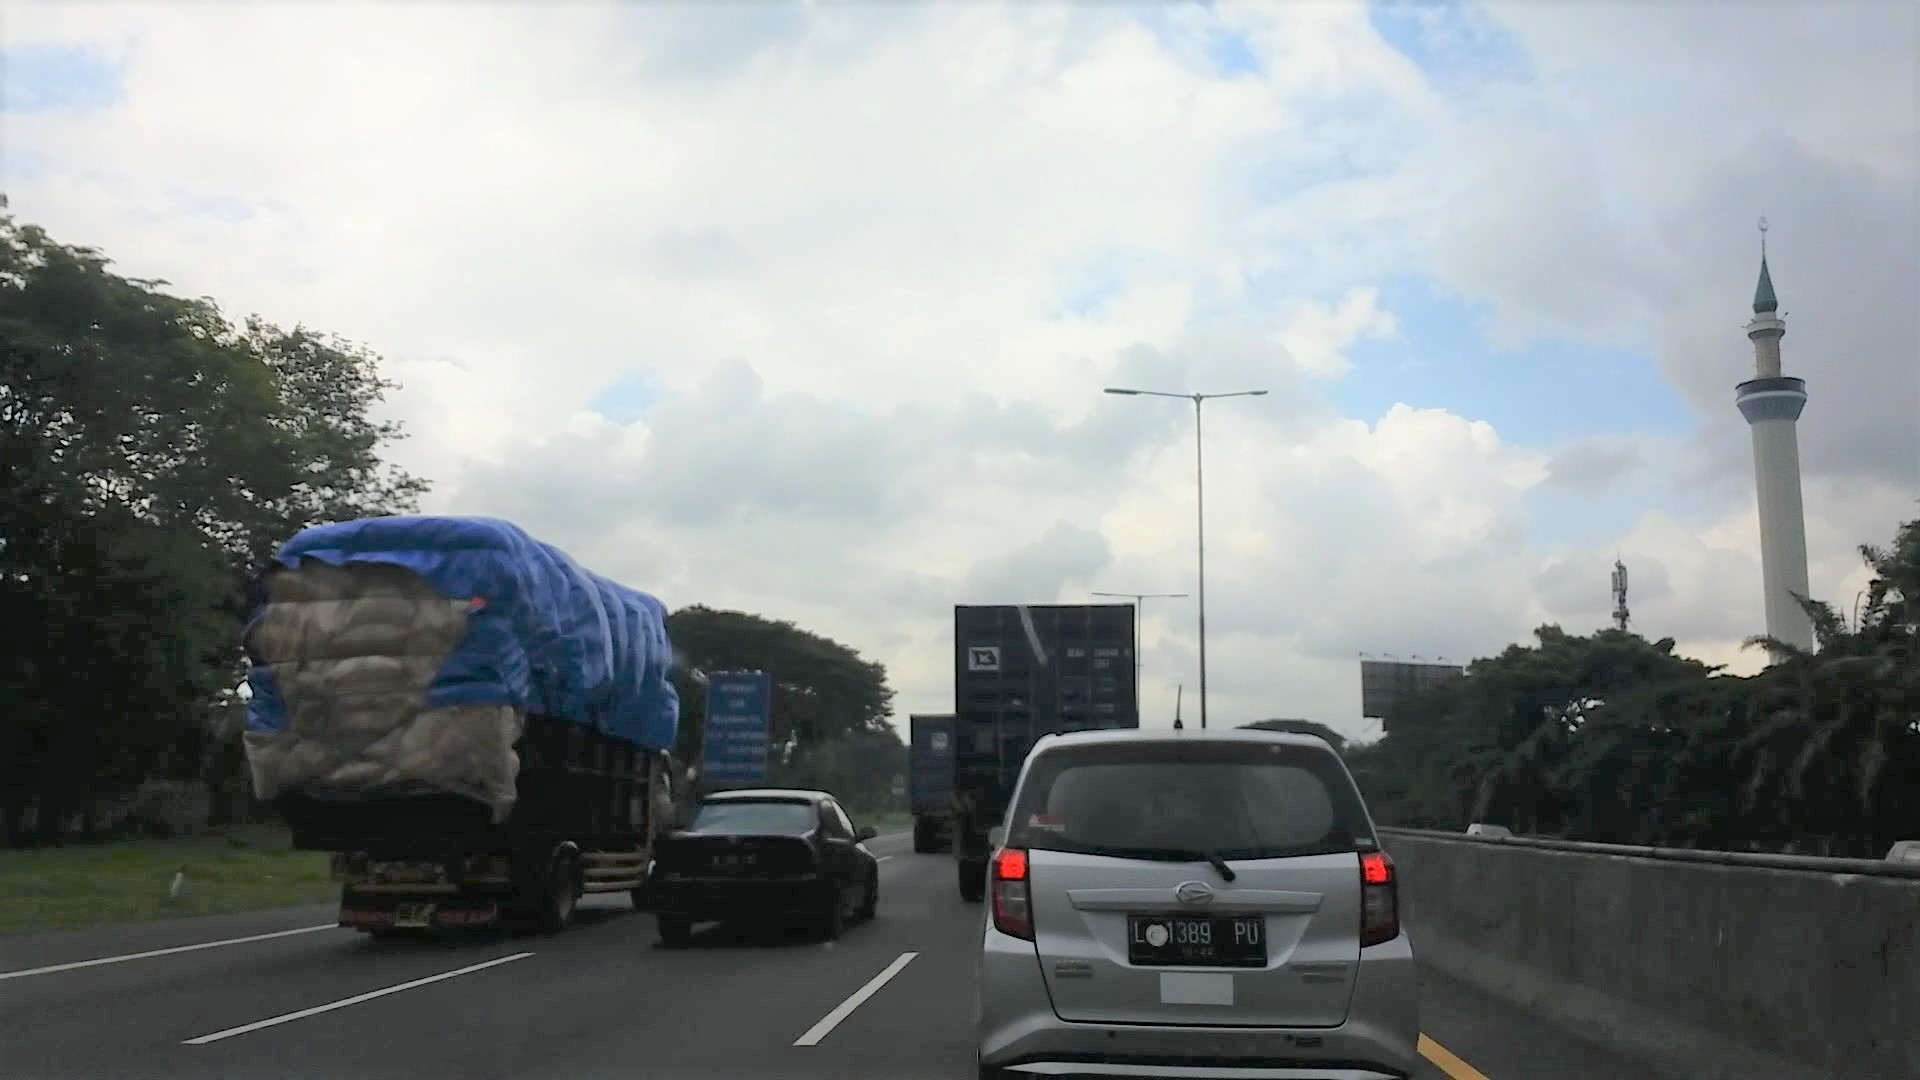plate_positive: (1127, 911, 1269, 969)
